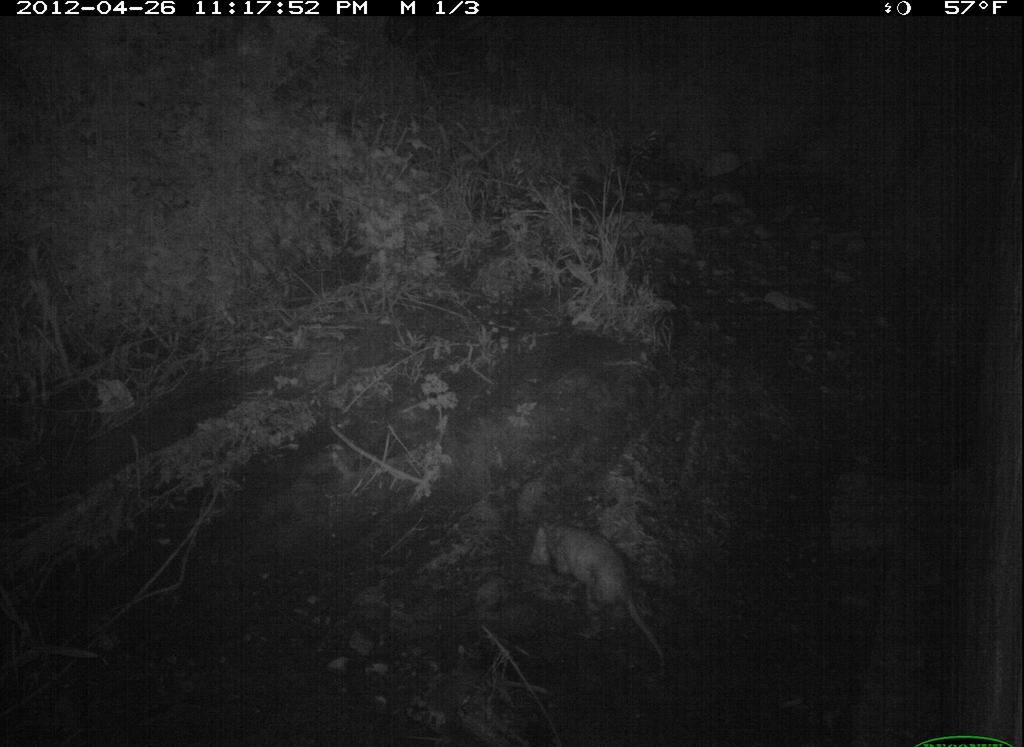opossum: (521, 501, 681, 701)
